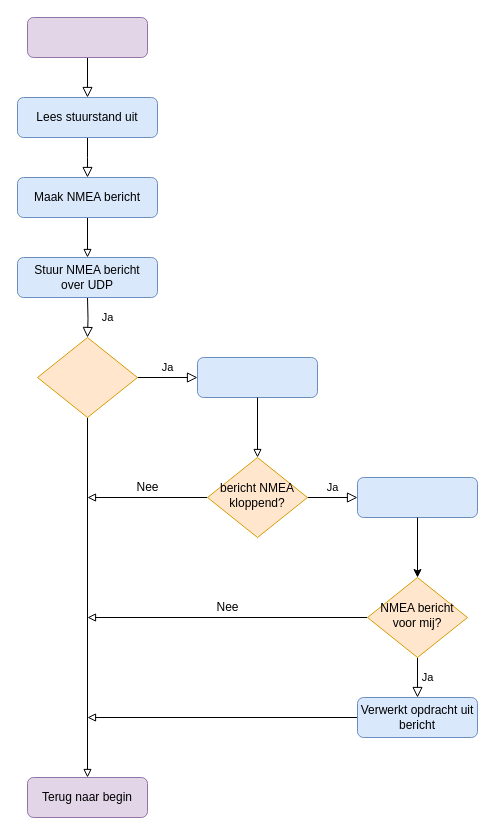
Some shapes in this 495 by 835 pixel diagram are drawn without their labels. Each missing label, with the box of its shape:
Begin: (26, 16, 148, 58)
Lees NMEA bericht: (356, 476, 478, 518)
Lees UDP: (196, 356, 318, 398)
UDP beschikbaar?: (36, 336, 138, 418)
